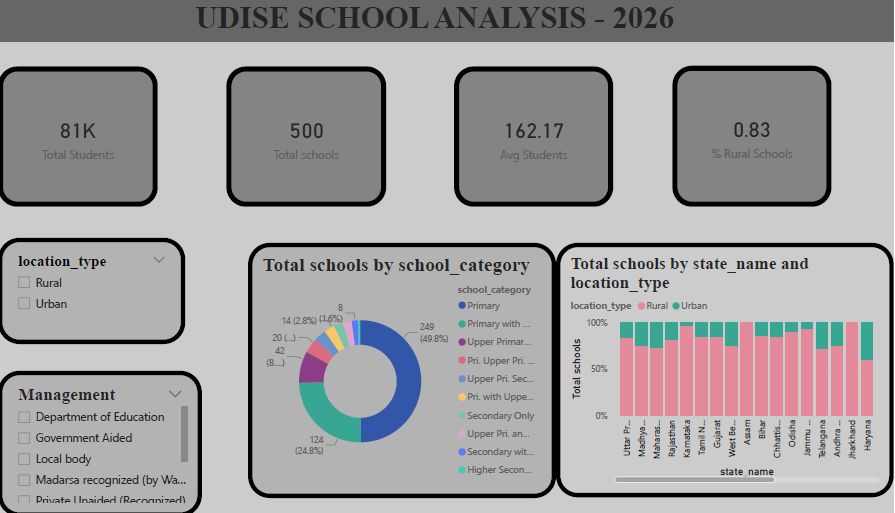

This screenshot's page, from the dashboard's own definition file:
{"tool":"powerbi","page":{"name":"Page 1","canvas":[1280,720],"ordinal":0},"visuals":[{"type":"textbox","box":[9.9,0,1270.6,62.1],"z":0},{"type":"card","fields":{"Values":["SCHOOLS SAMPLE.Total Students"]},"box":[41.1,97,220.4,194],"z":1000},{"type":"card","fields":{"Values":["SCHOOLS SAMPLE.Total schools"]},"box":[357.1,97,220.4,194],"z":2000},{"type":"card","fields":{"Values":["SCHOOLS SAMPLE.Avg Students"]},"box":[671.6,97,220.4,194],"z":3000},{"type":"actionButton","box":[0,0,100,40],"z":4000},{"type":"slicer","fields":{"Values":["SCHOOLS SAMPLE.location_type"]},"box":[41.3,333.8,258.8,147],"z":5000},{"type":"slicer","fields":{"Values":["SCHOOLS SAMPLE.management"]},"box":[41.3,517.5,281.7,202.1],"z":6000},{"type":"card","fields":{"Values":["SCHOOLS SAMPLE.% Rural Schools"]},"box":[973.8,96.5,220.5,194.4],"z":7000},{"type":"donutChart","fields":{"Category":["SCHOOLS SAMPLE.school_category"],"Y":["SCHOOLS SAMPLE.Total schools"]},"box":[387.4,341.4,425.6,352.2],"z":8000},{"type":"hundredPercentStackedColumnChart","fields":{"Category":["SCHOOLS SAMPLE.state_name"],"Y":["SCHOOLS SAMPLE.Total schools"],"Series":["SCHOOLS SAMPLE.location_type"]},"box":[813,341,467,352],"z":9000}]}

Visuals, with their boxes in screenshot pixels (x1, y1, x2, y2), scaled from the page's 1280x720 canvas onto the 895x513 screenshot:
textbox: left=7, top=0, right=894, bottom=44
card - SCHOOLS SAMPLE.Total Students: left=29, top=69, right=183, bottom=207
card - SCHOOLS SAMPLE.Total schools: left=250, top=69, right=404, bottom=207
card - SCHOOLS SAMPLE.Avg Students: left=470, top=69, right=624, bottom=207
actionButton: left=0, top=0, right=70, bottom=28
slicer - SCHOOLS SAMPLE.location_type: left=29, top=238, right=210, bottom=343
slicer - SCHOOLS SAMPLE.management: left=29, top=369, right=226, bottom=512
card - SCHOOLS SAMPLE.% Rural Schools: left=681, top=69, right=835, bottom=207
donutChart - SCHOOLS SAMPLE.school_category x SCHOOLS SAMPLE.Total schools: left=271, top=243, right=568, bottom=494
hundredPercentStackedColumnChart - SCHOOLS SAMPLE.state_name x SCHOOLS SAMPLE.Total schools: left=568, top=243, right=894, bottom=494
